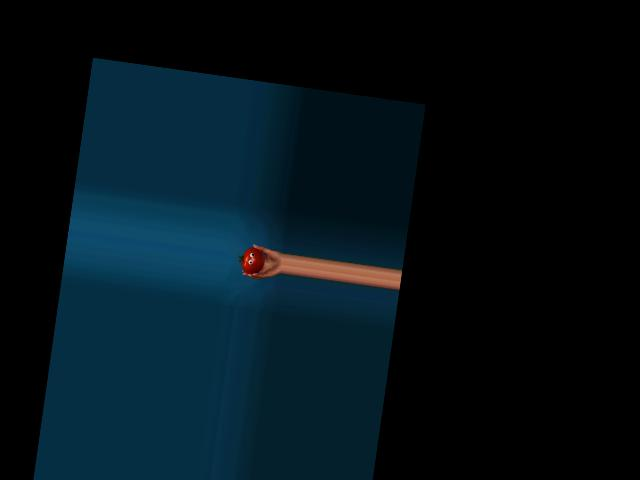tomato: (240, 246, 266, 275)
